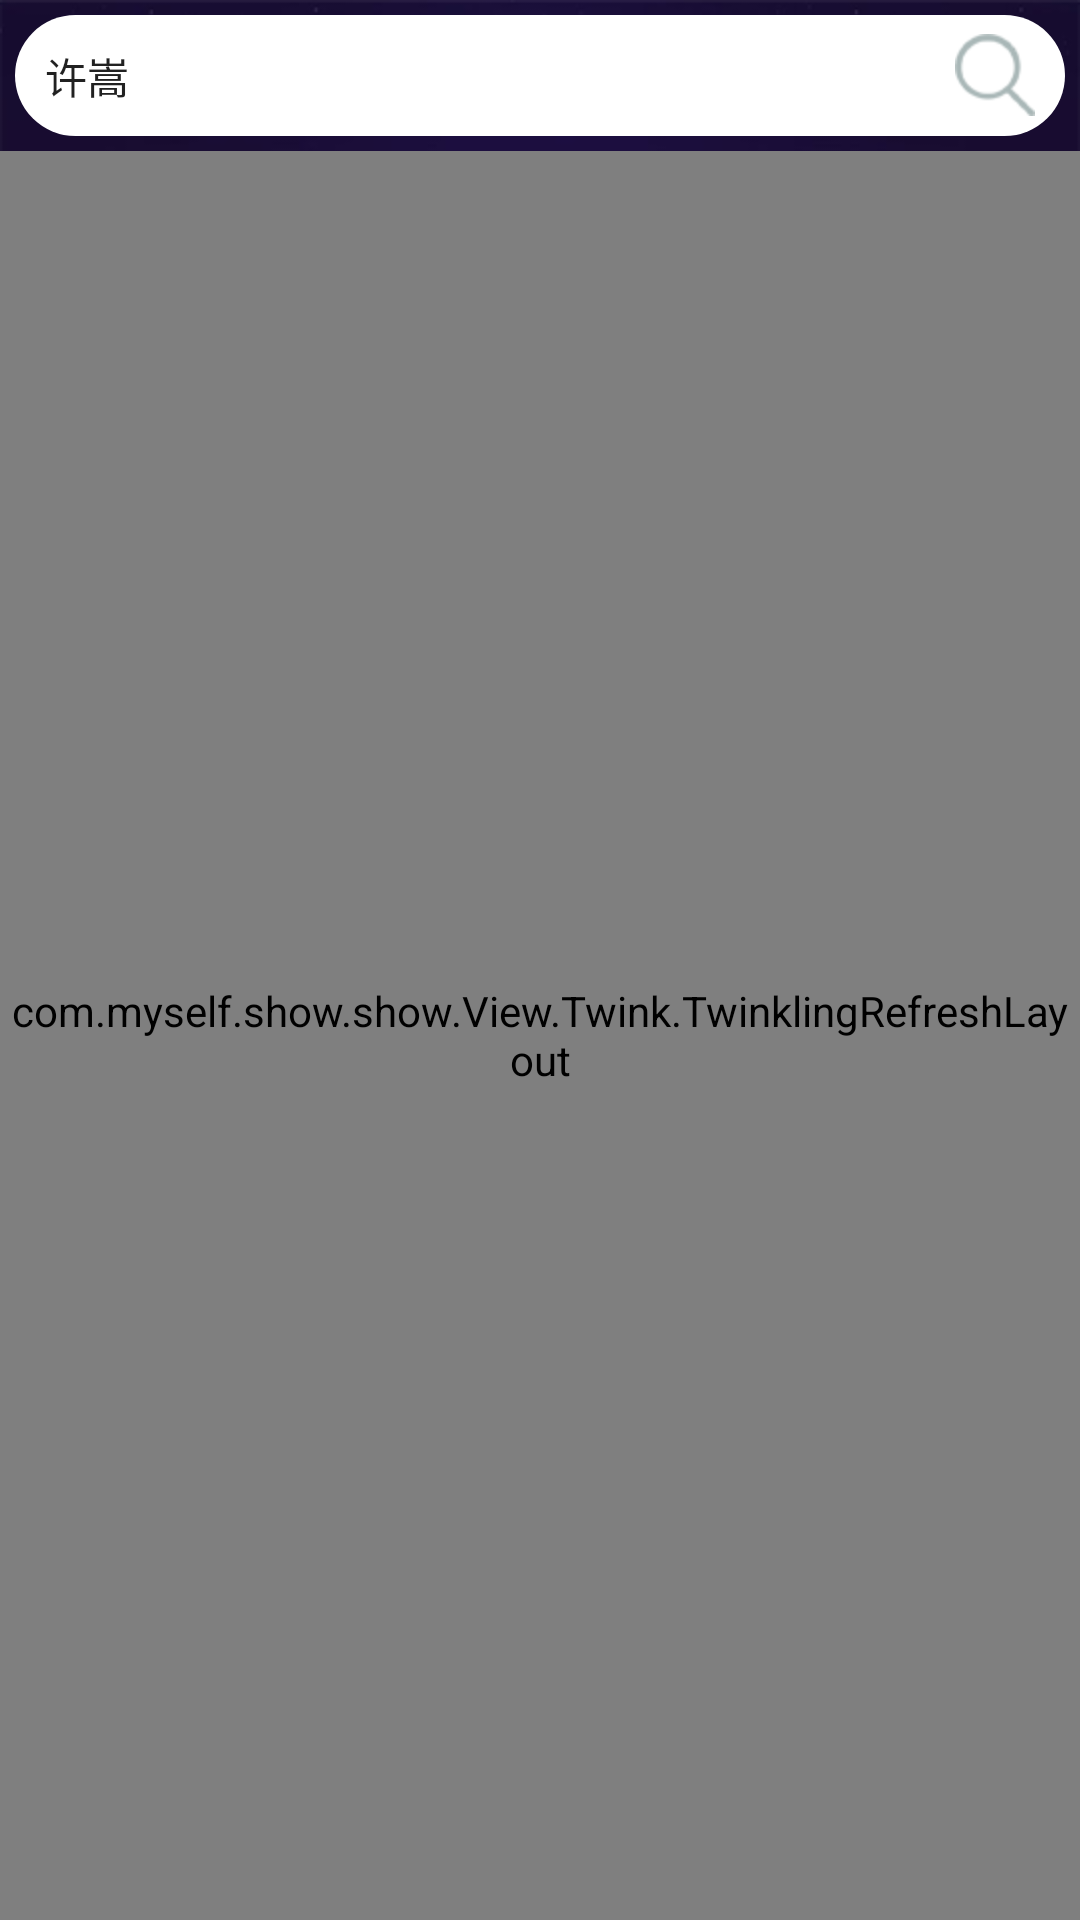

Screen size 1080px x 1920px. Icon name, then its center in pixels as (x=x, y=y):
search: (x=995, y=75)
